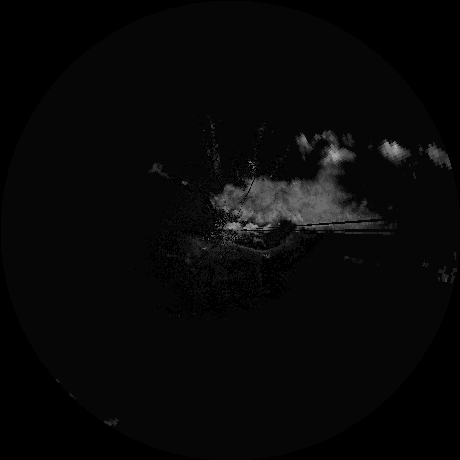frontgust: (226, 230, 299, 253)
